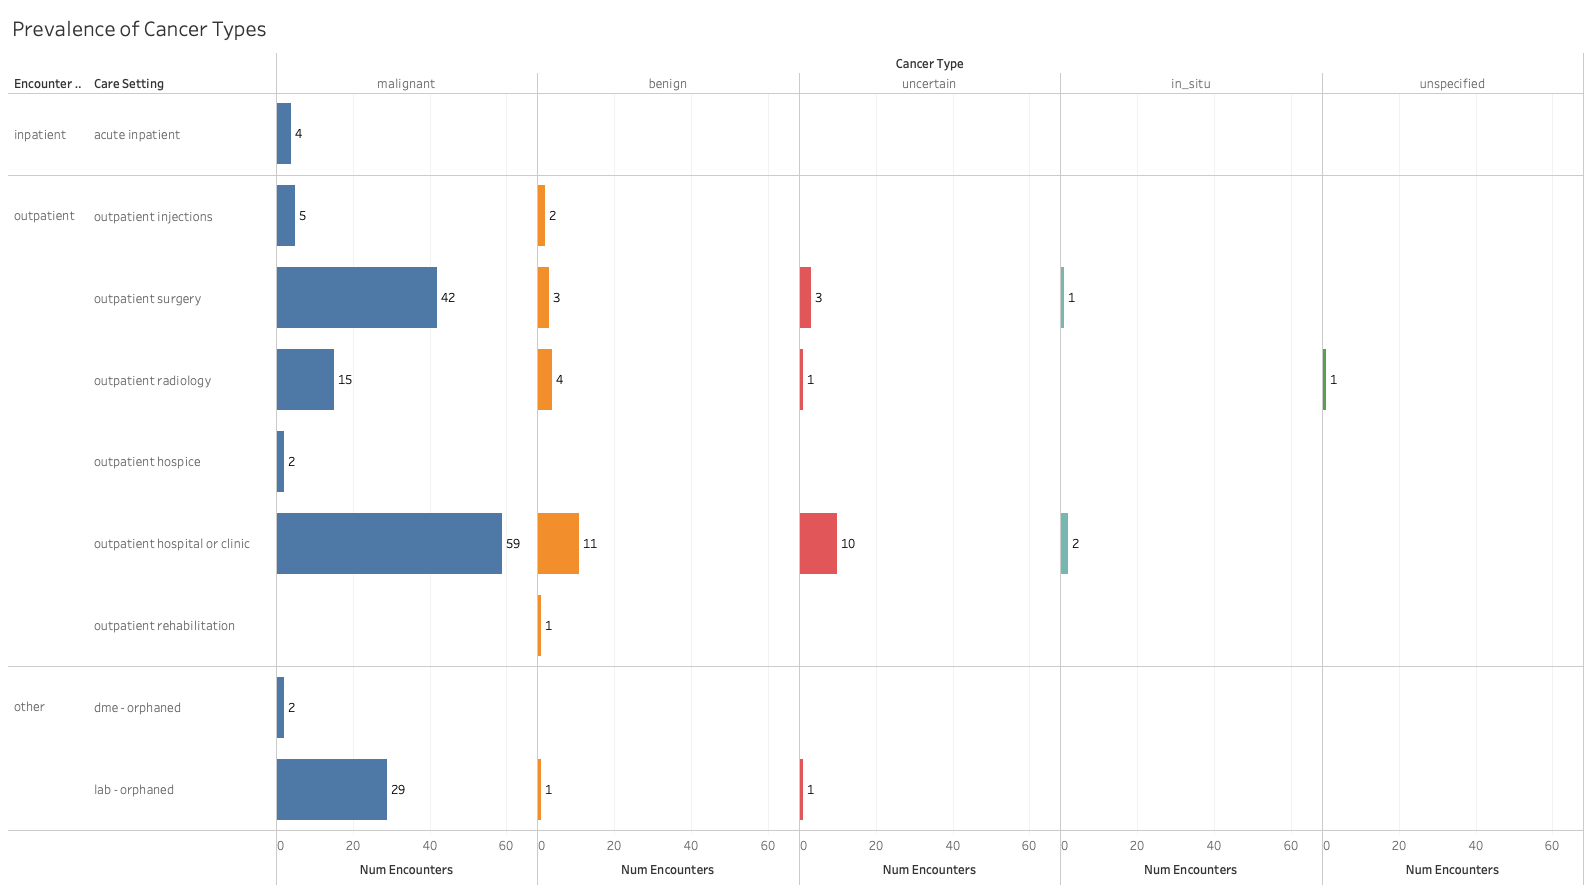

What the dashboard file says about the page in this screenshot:
{"tool":"tableau","page":{"name":"Dashboard 1","canvas":[1600,900],"ordinal":0},"visuals":[{"type":"worksheet","title":"Sheet 6 (3)","mark":"Automatic","rows":["encounter_group","care_setting"],"cols":["cancer_type","Calculation_3183190753738753"],"box":[8,8,1584,884]}]}

Visuals, with their boxes in screenshot pixels (x1, y1, x2, y2), scaled from the page's 1600x900 canvas onto the 1591x892 screenshot:
"Sheet 6 (3)" worksheet: l=8, t=8, r=1583, b=884
